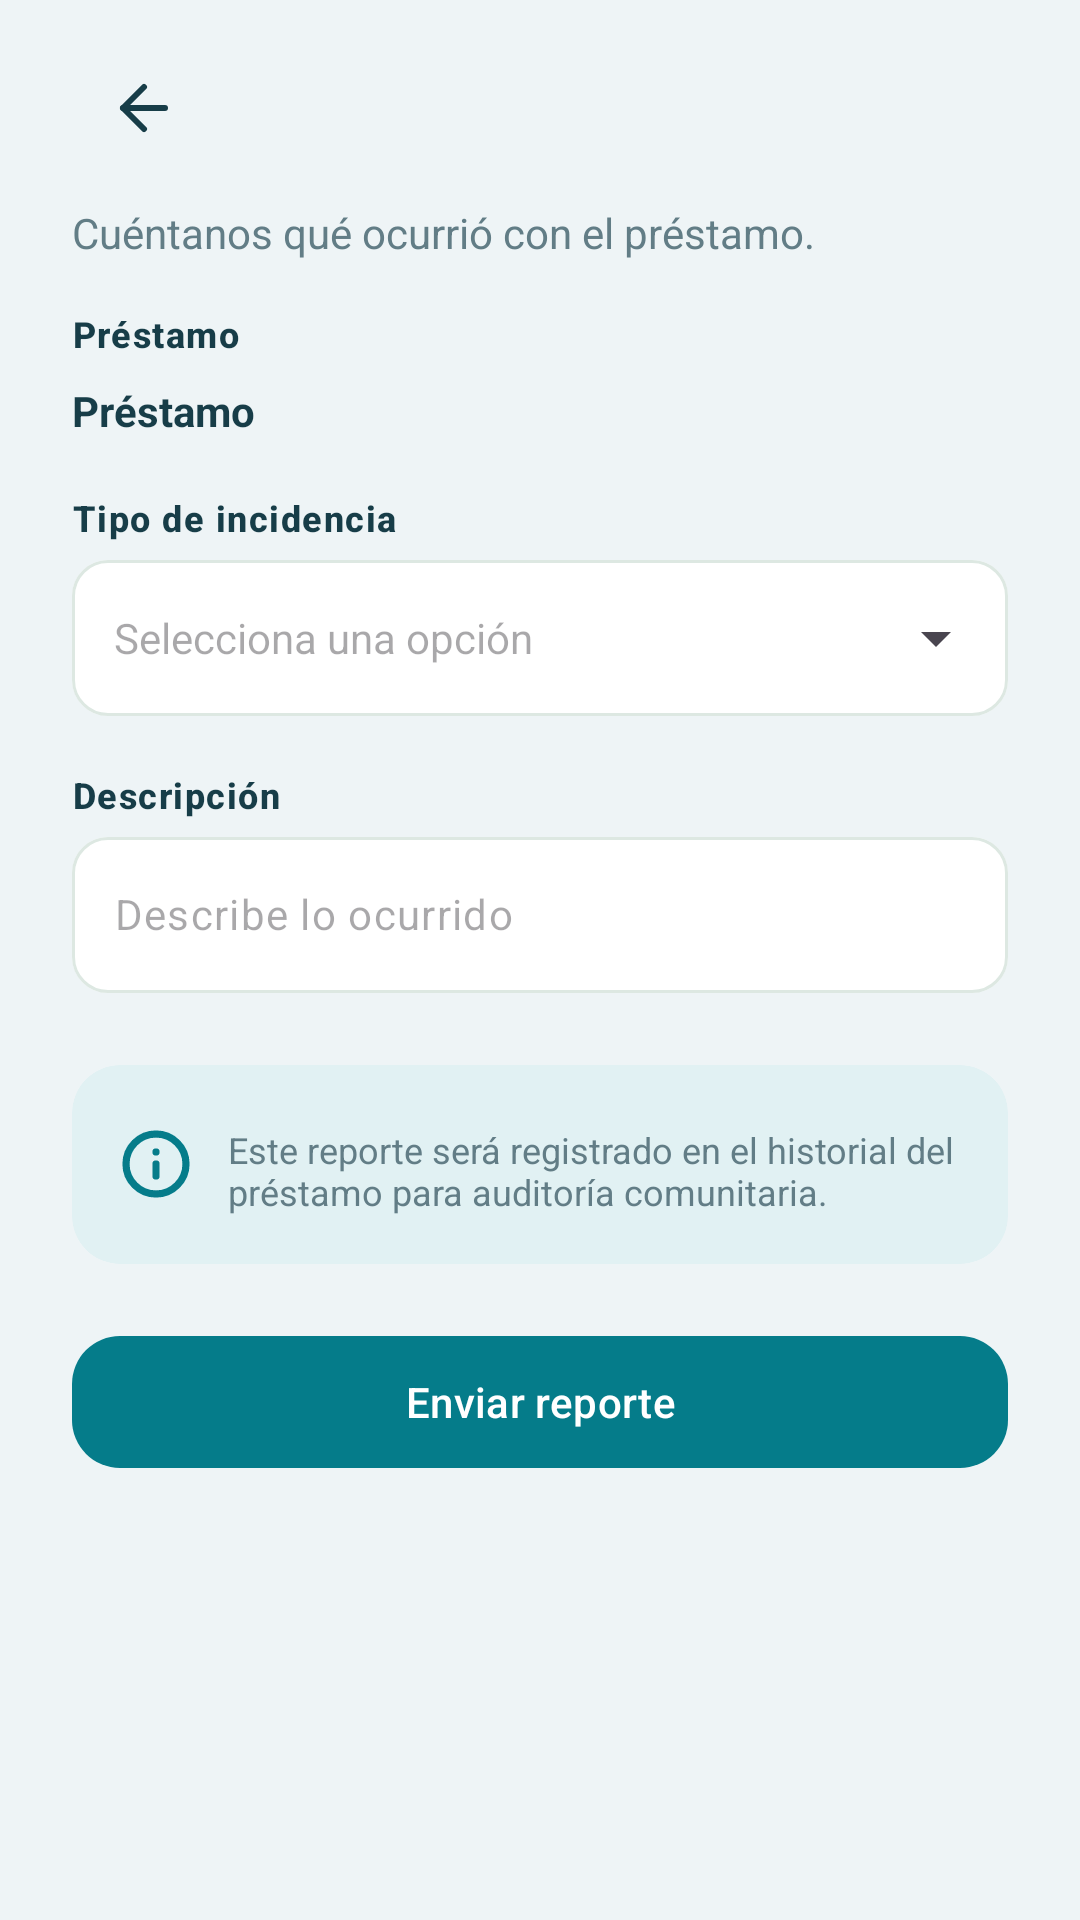

Named icons in this screenshot (1080px×1920px) and their bounding boxes, {"x1": x1, "y1": y1, "x2": x2, "y2": y2}:
Volver: {"x1": 120, "y1": 84, "x2": 168, "y2": 132}
